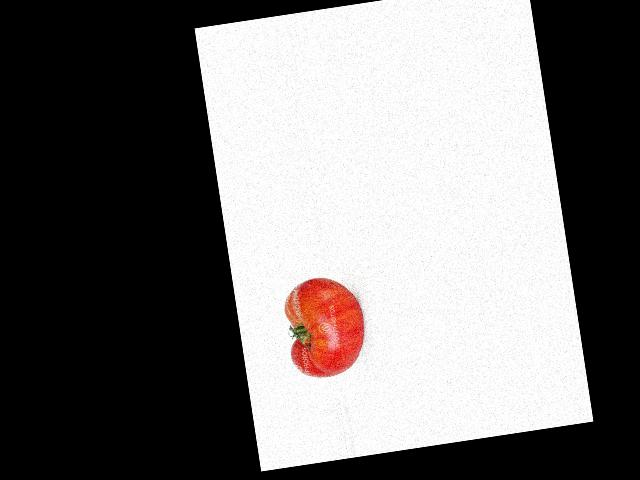tomato: (280, 271, 370, 381)
